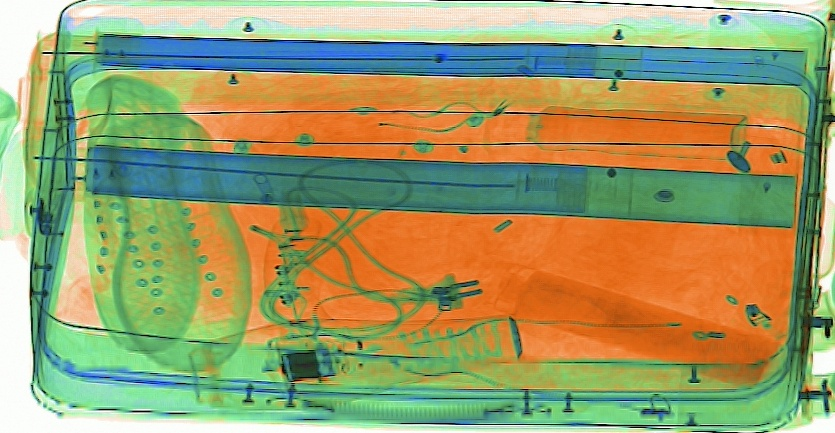pressure: (480, 103, 752, 161)
